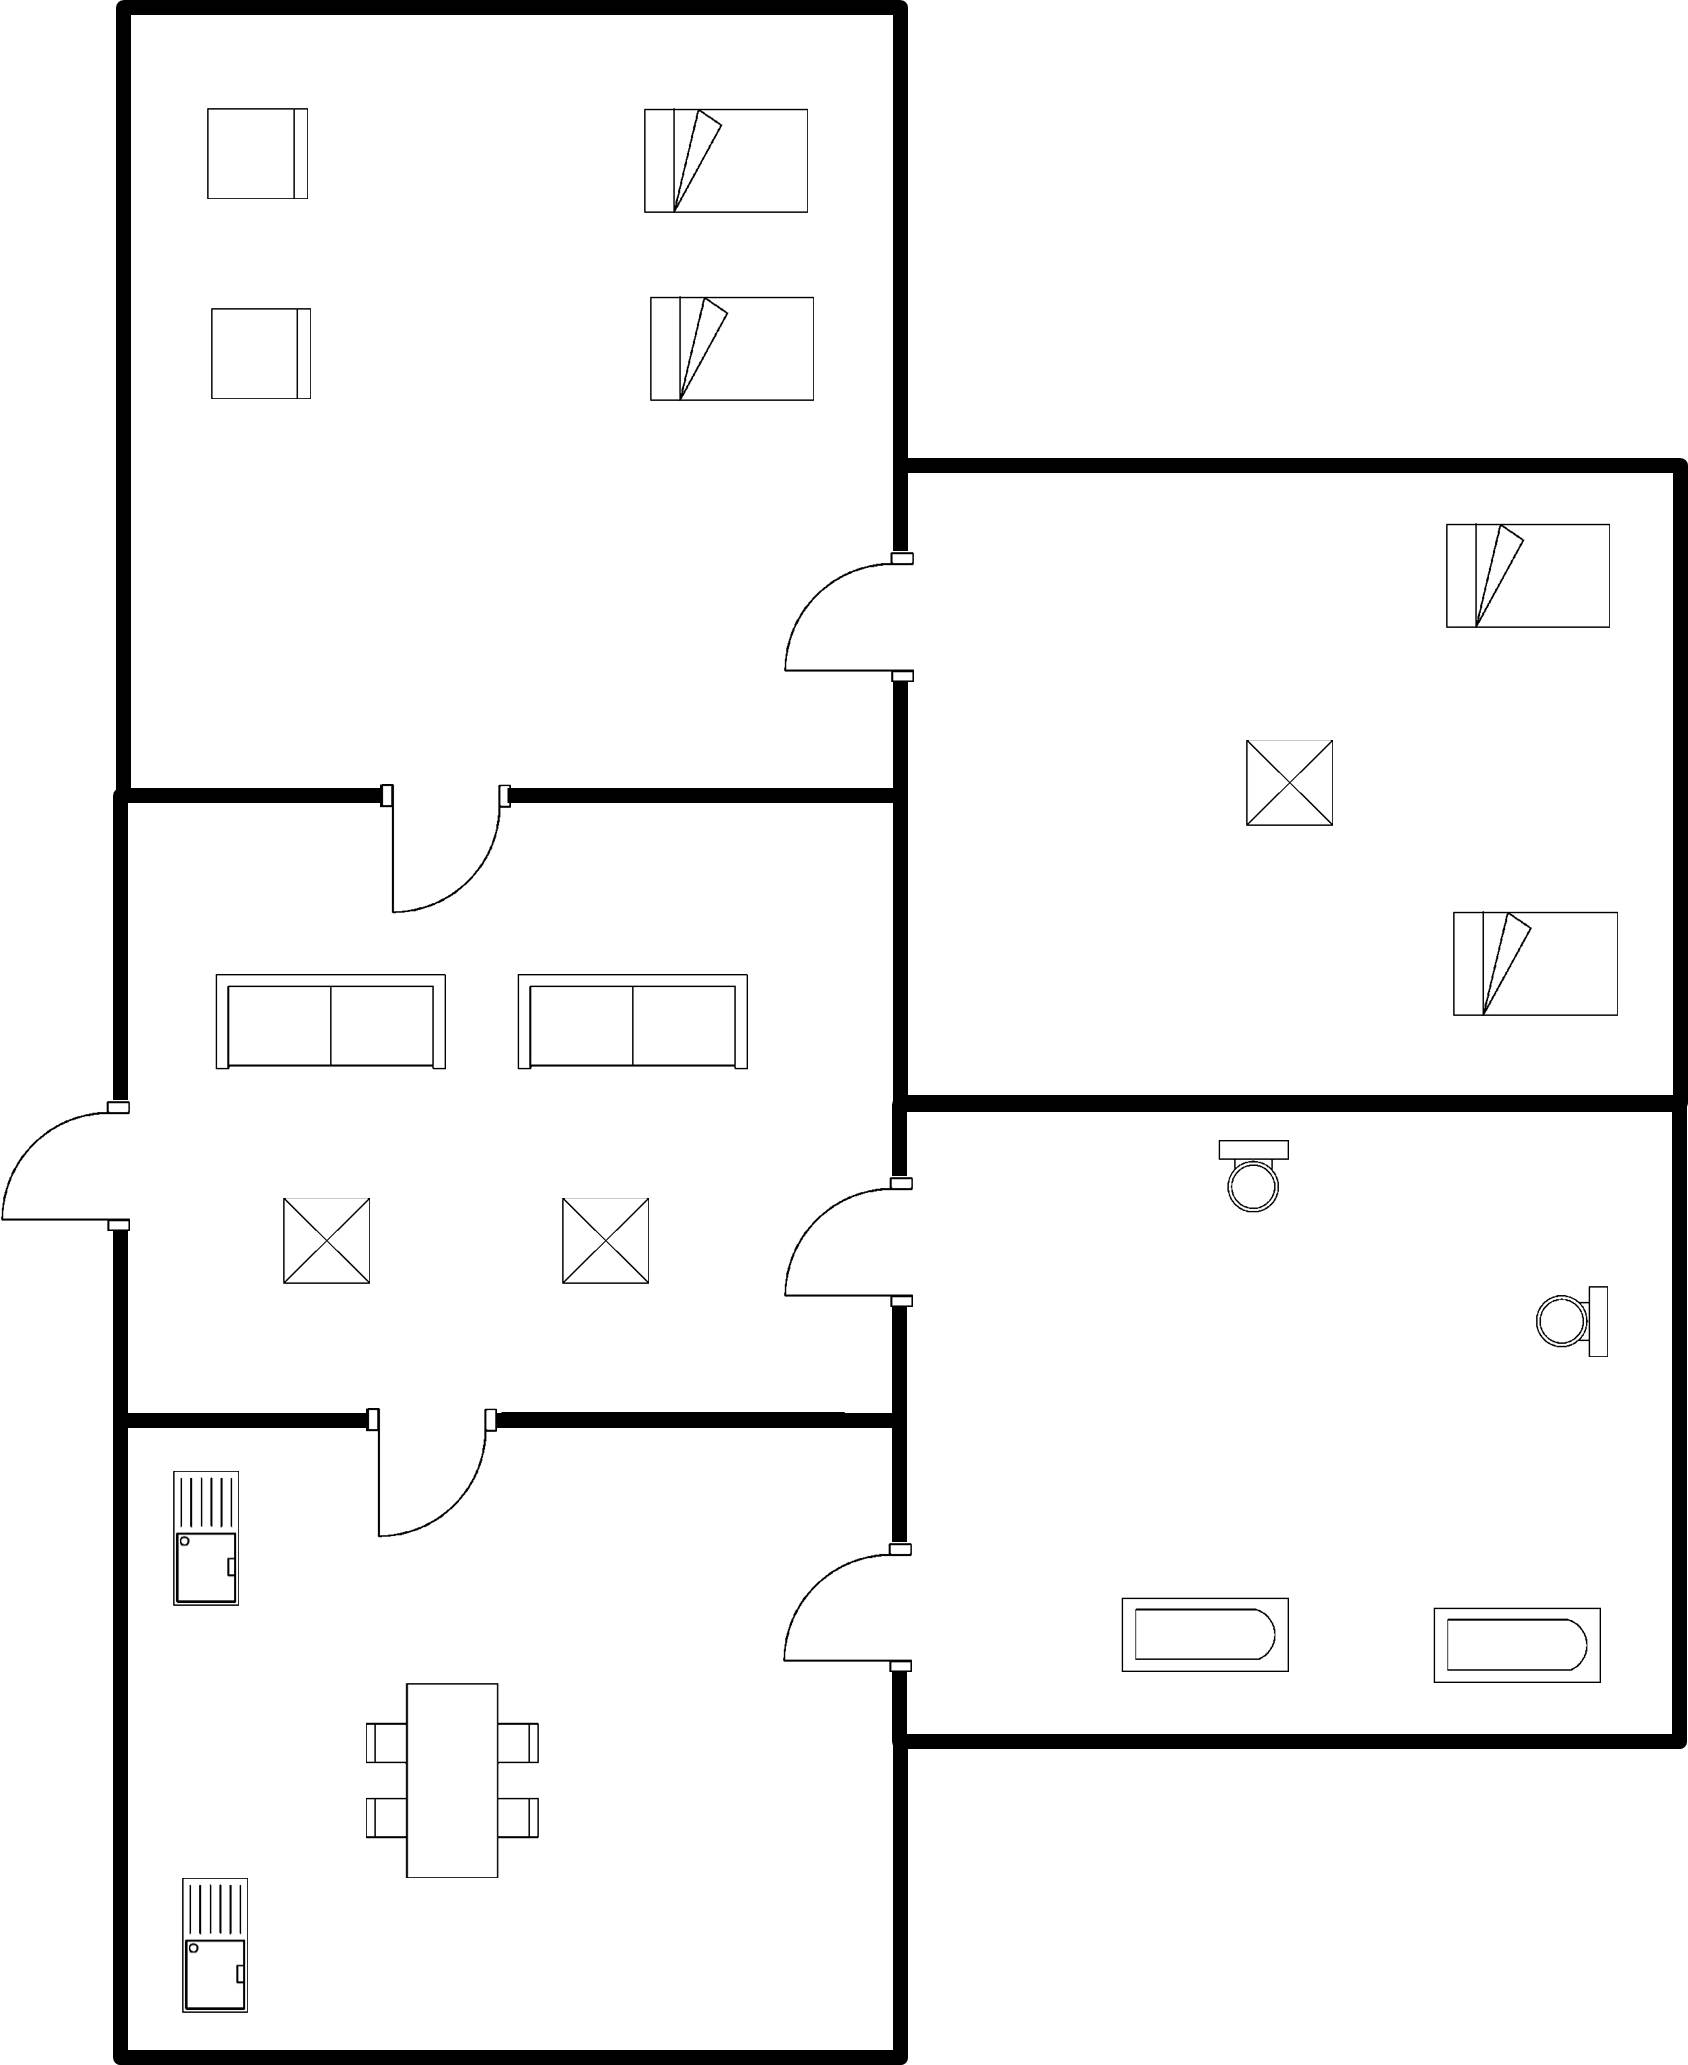bed: (622, 93, 824, 230), (637, 285, 829, 416), (1439, 899, 1633, 1028), (1435, 510, 1622, 642)
coffee_table: (267, 1183, 390, 1299), (1229, 728, 1347, 840), (549, 1185, 663, 1299)
dining_table: (353, 1669, 555, 1901)
large_sink: (1526, 1273, 1626, 1375), (1208, 1132, 1302, 1226)
large_sofa: (196, 952, 463, 1089), (498, 959, 763, 1081)
sink: (157, 1450, 251, 1616), (169, 1865, 265, 2026)
small_sofa: (194, 91, 324, 212), (204, 293, 326, 418)
tub: (1104, 1585, 1306, 1689), (1418, 1597, 1616, 1695)
